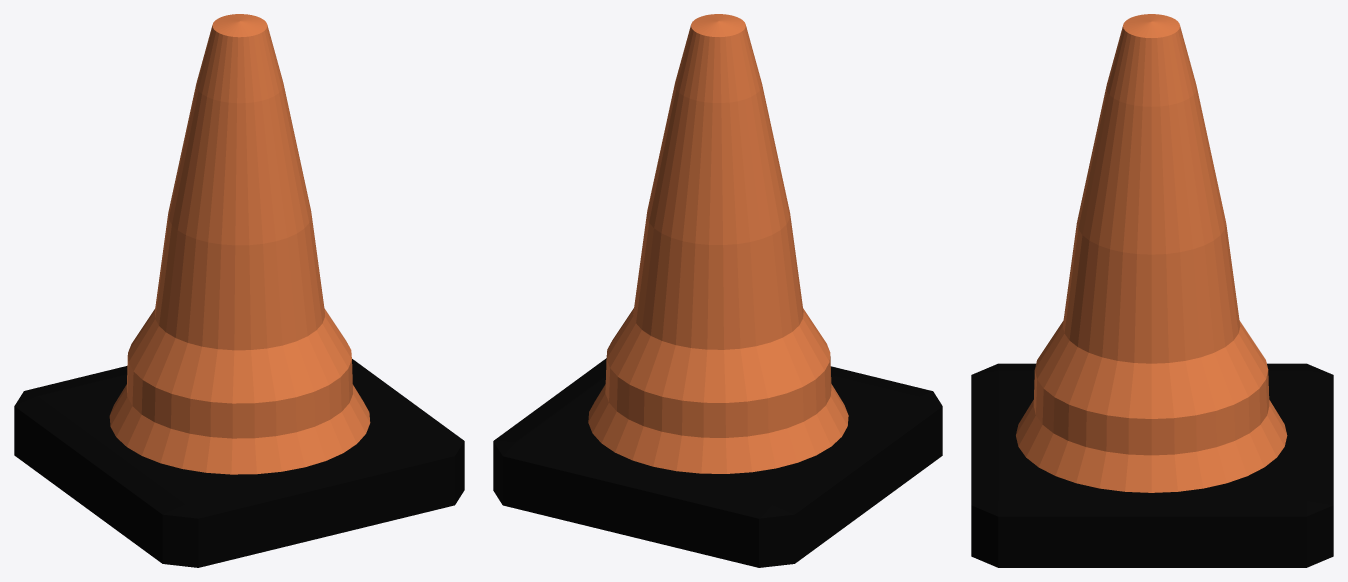
3 renders of one model, left to right at view 1: azimuth 30°, elevation 25°; view 2: azimuth 150°, elevation 25°; view 3: azimuth 270°, elevation 25°, orthographic. The views are drawn at different scales.
Visible parts, largest first — view 1: Cone; view 2: Cone; view 3: Cone.
Boxes of the visible parts, <box> form: Cone: <box>14,14,464,567</box>; Cone: <box>493,14,942,567</box>; Cone: <box>971,14,1333,567</box>.
Bounding box in the file's own units: 287 × 287 × 415.
